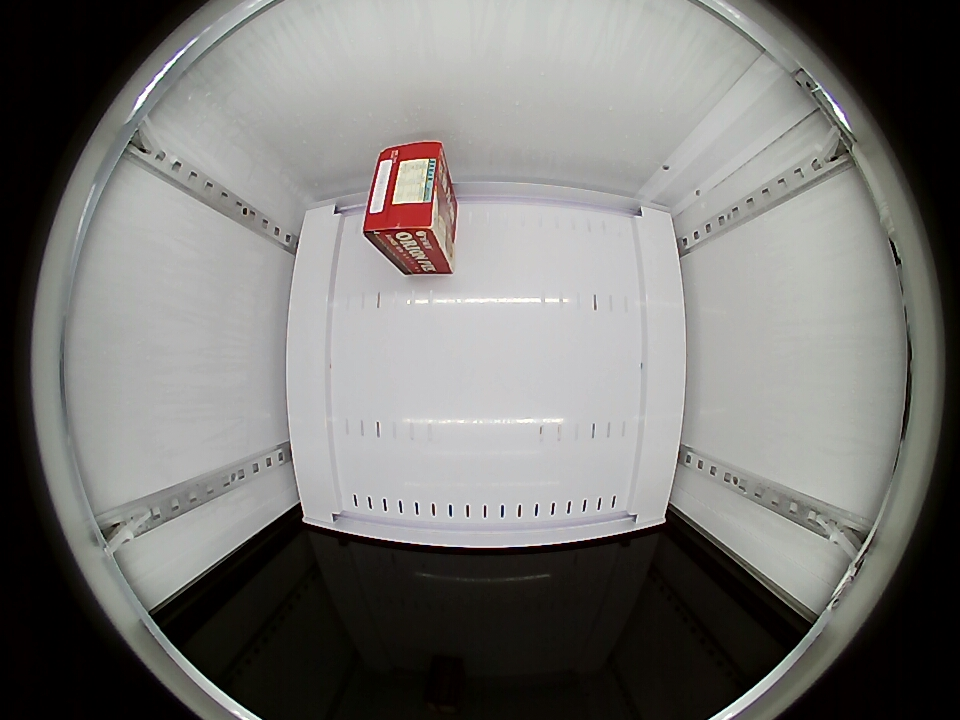haoliyou: (363, 140, 453, 259)
